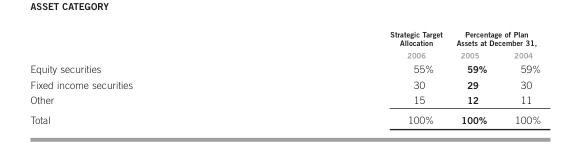table: (29, 28, 540, 125)
table column: (29, 28, 260, 125), (260, 28, 448, 125), (448, 28, 499, 125), (499, 28, 540, 125)
table column header: (29, 28, 540, 60)
table row: (29, 28, 540, 48), (29, 91, 540, 109), (29, 60, 540, 76), (29, 109, 540, 125), (29, 76, 540, 91), (29, 48, 540, 60)
table spanning cell: (260, 28, 448, 60), (448, 28, 540, 48)
